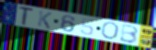5: (80, 17, 96, 36)
6: (60, 15, 77, 33)
B: (118, 24, 140, 45)
K: (37, 10, 53, 30)
O: (100, 21, 121, 40)
T: (18, 6, 35, 26)
